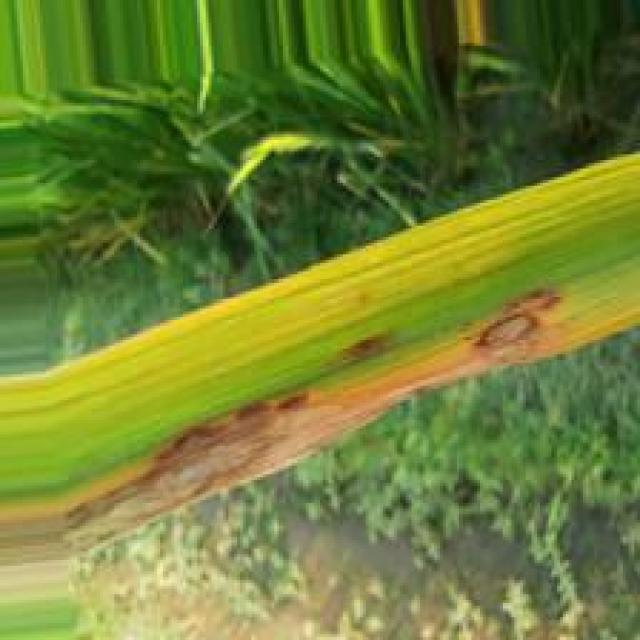Rice Tungro: (0, 281, 575, 562)
